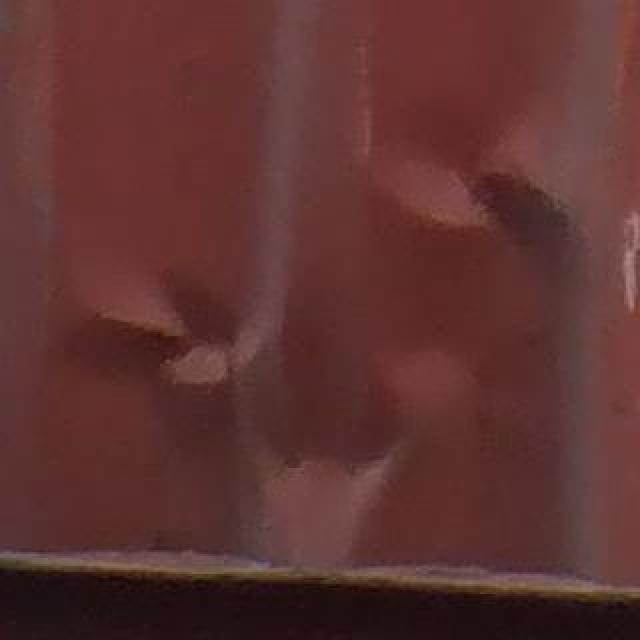dent: (17, 85, 640, 607)
